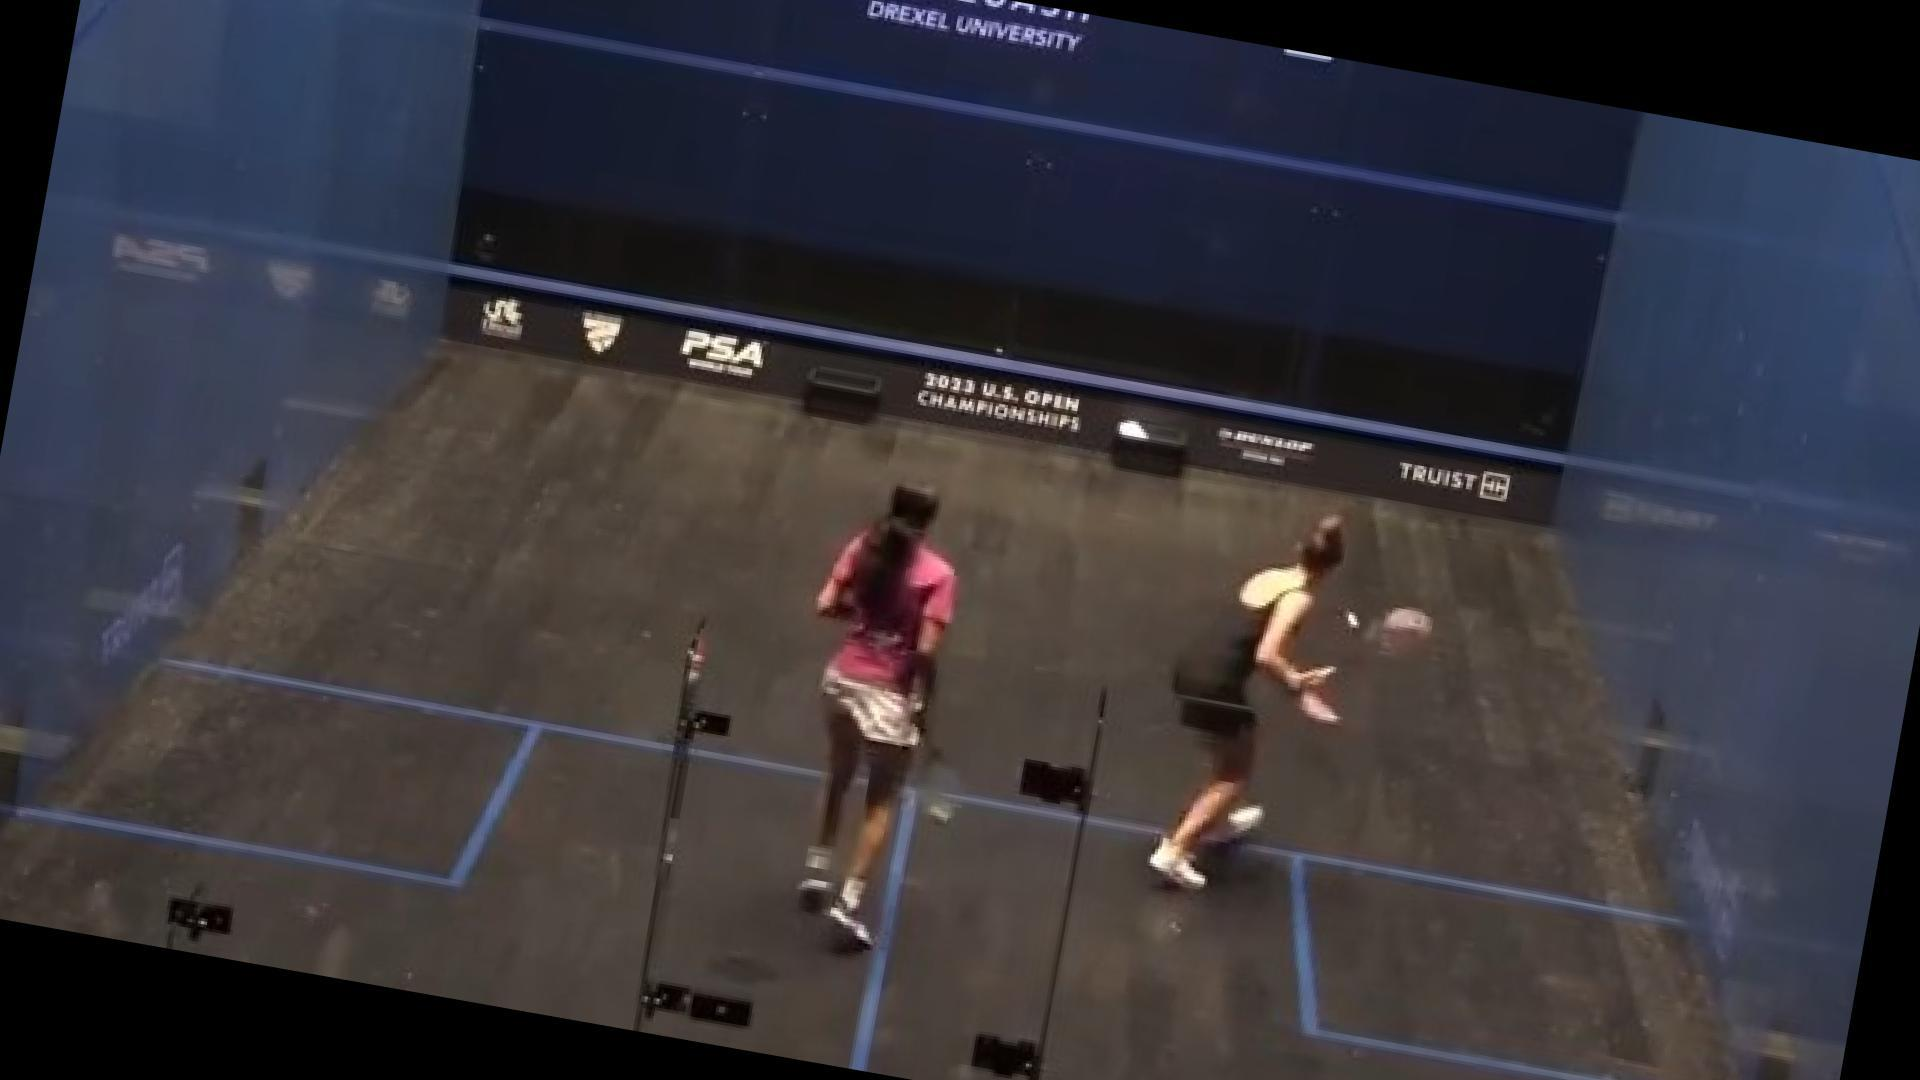Squash-Ball: (1338, 593, 1365, 646)
